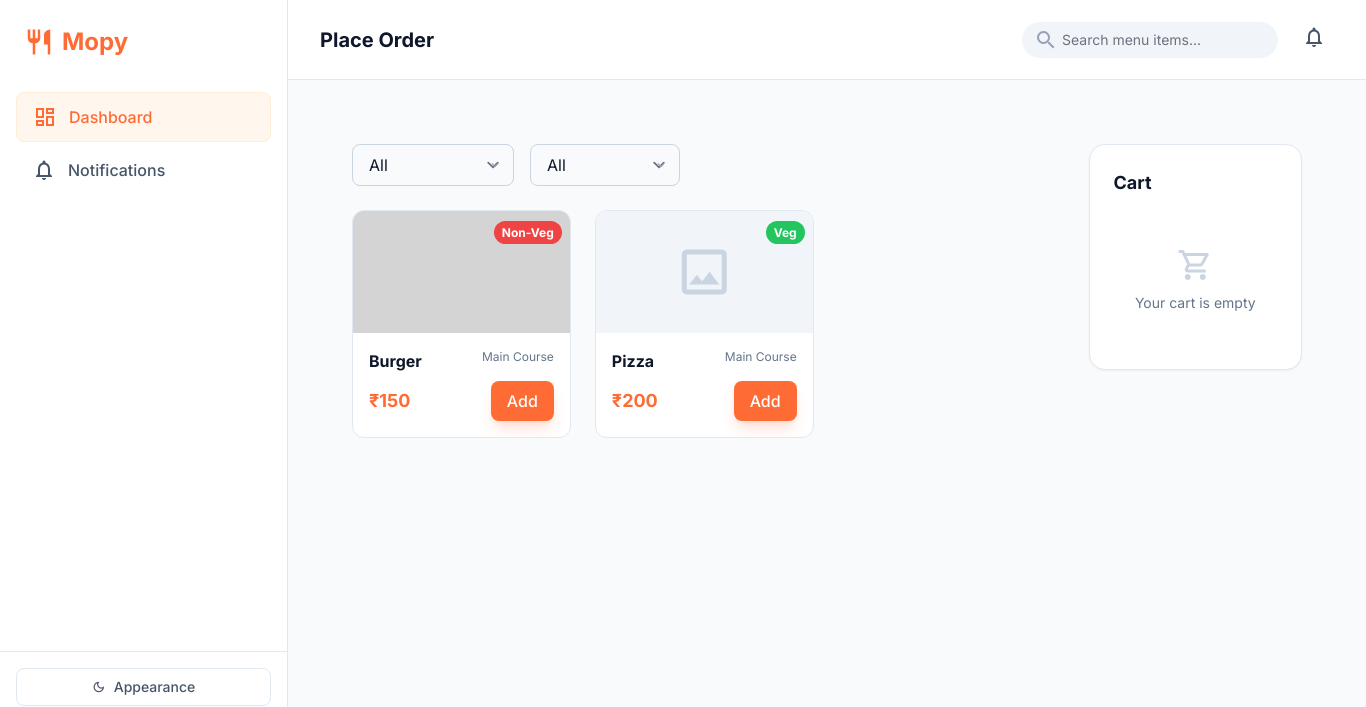
Test case: OrderPlacement Component › should update cart quantity
Check: the heading "Burger" is shown, box x1=369 y1=349 x2=422 y2=373
Add item to cart
Click the button "Add" next to "150" at (522, 401), box x1=491 y1=381 x2=554 y2=421
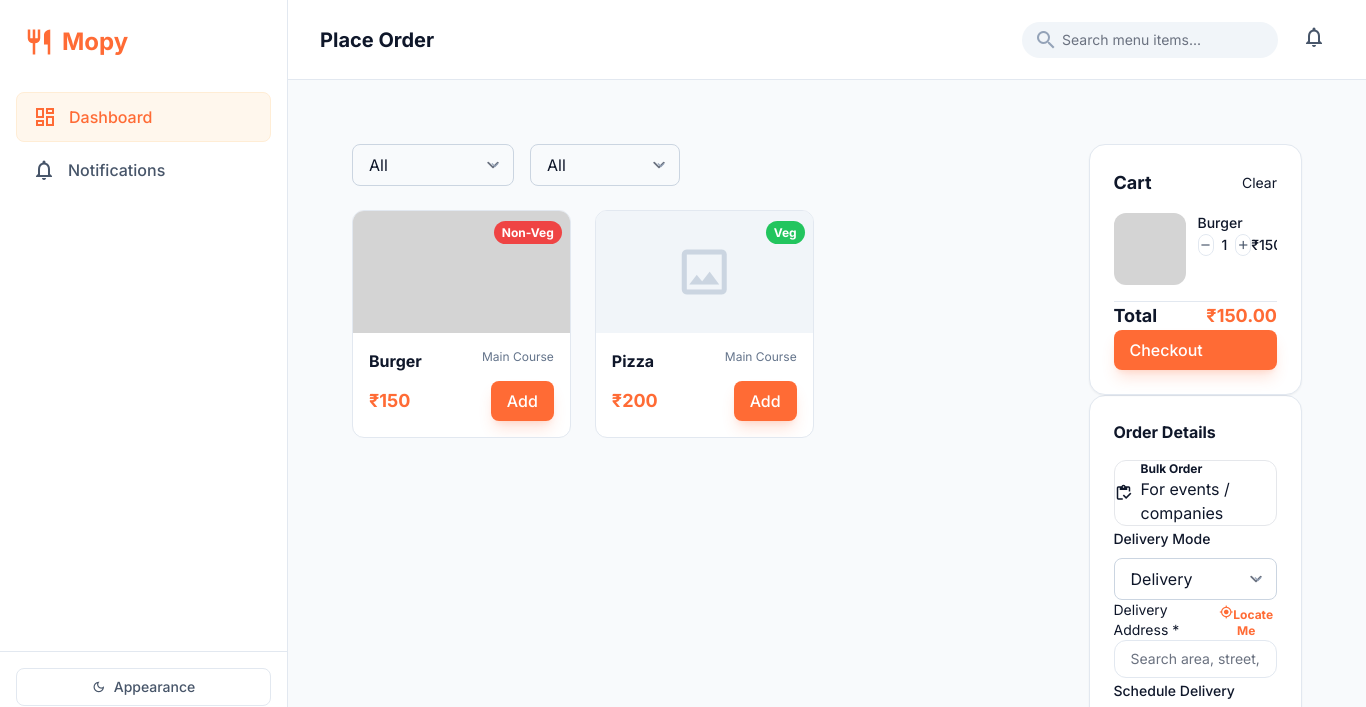
Find increment button by "add" icon text
Click the 2nd button "add" at (1243, 245), box x1=1235 y1=234 x2=1251 y2=256
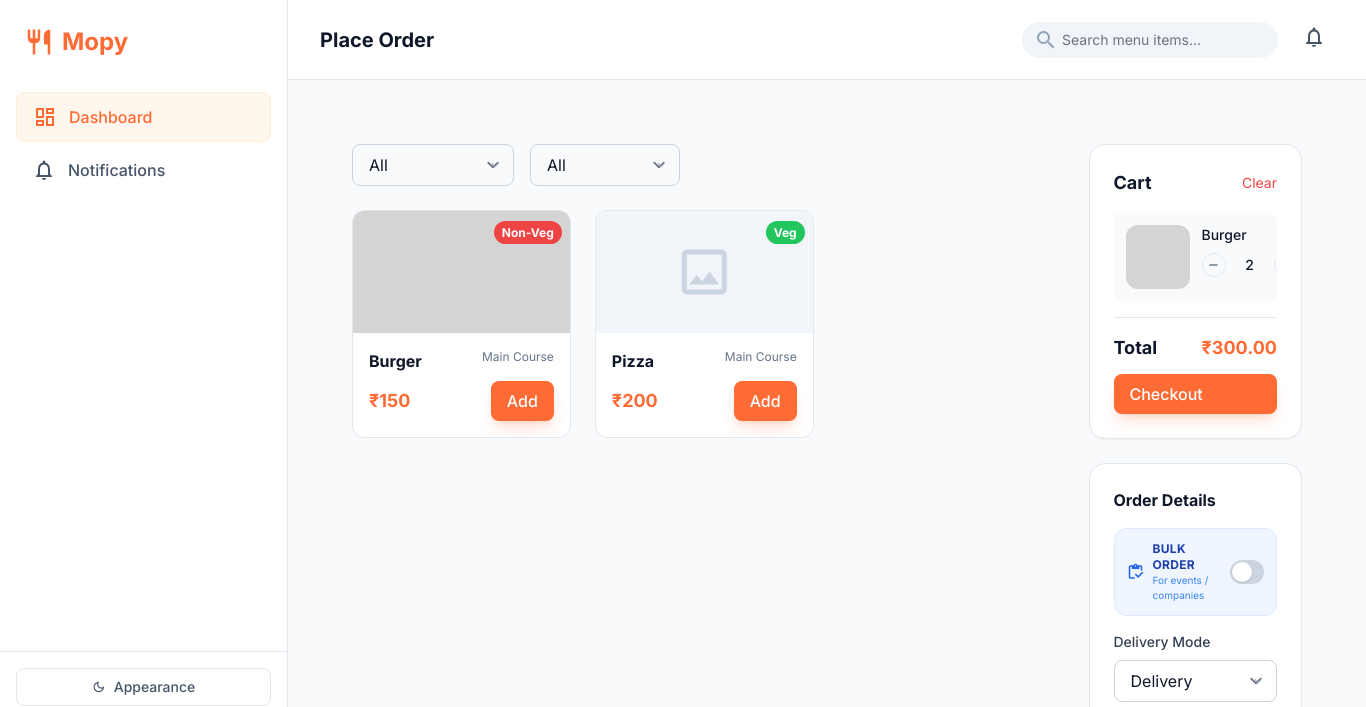
Check: the text "2" is shown, box x1=1245 y1=256 x2=1254 y2=273
